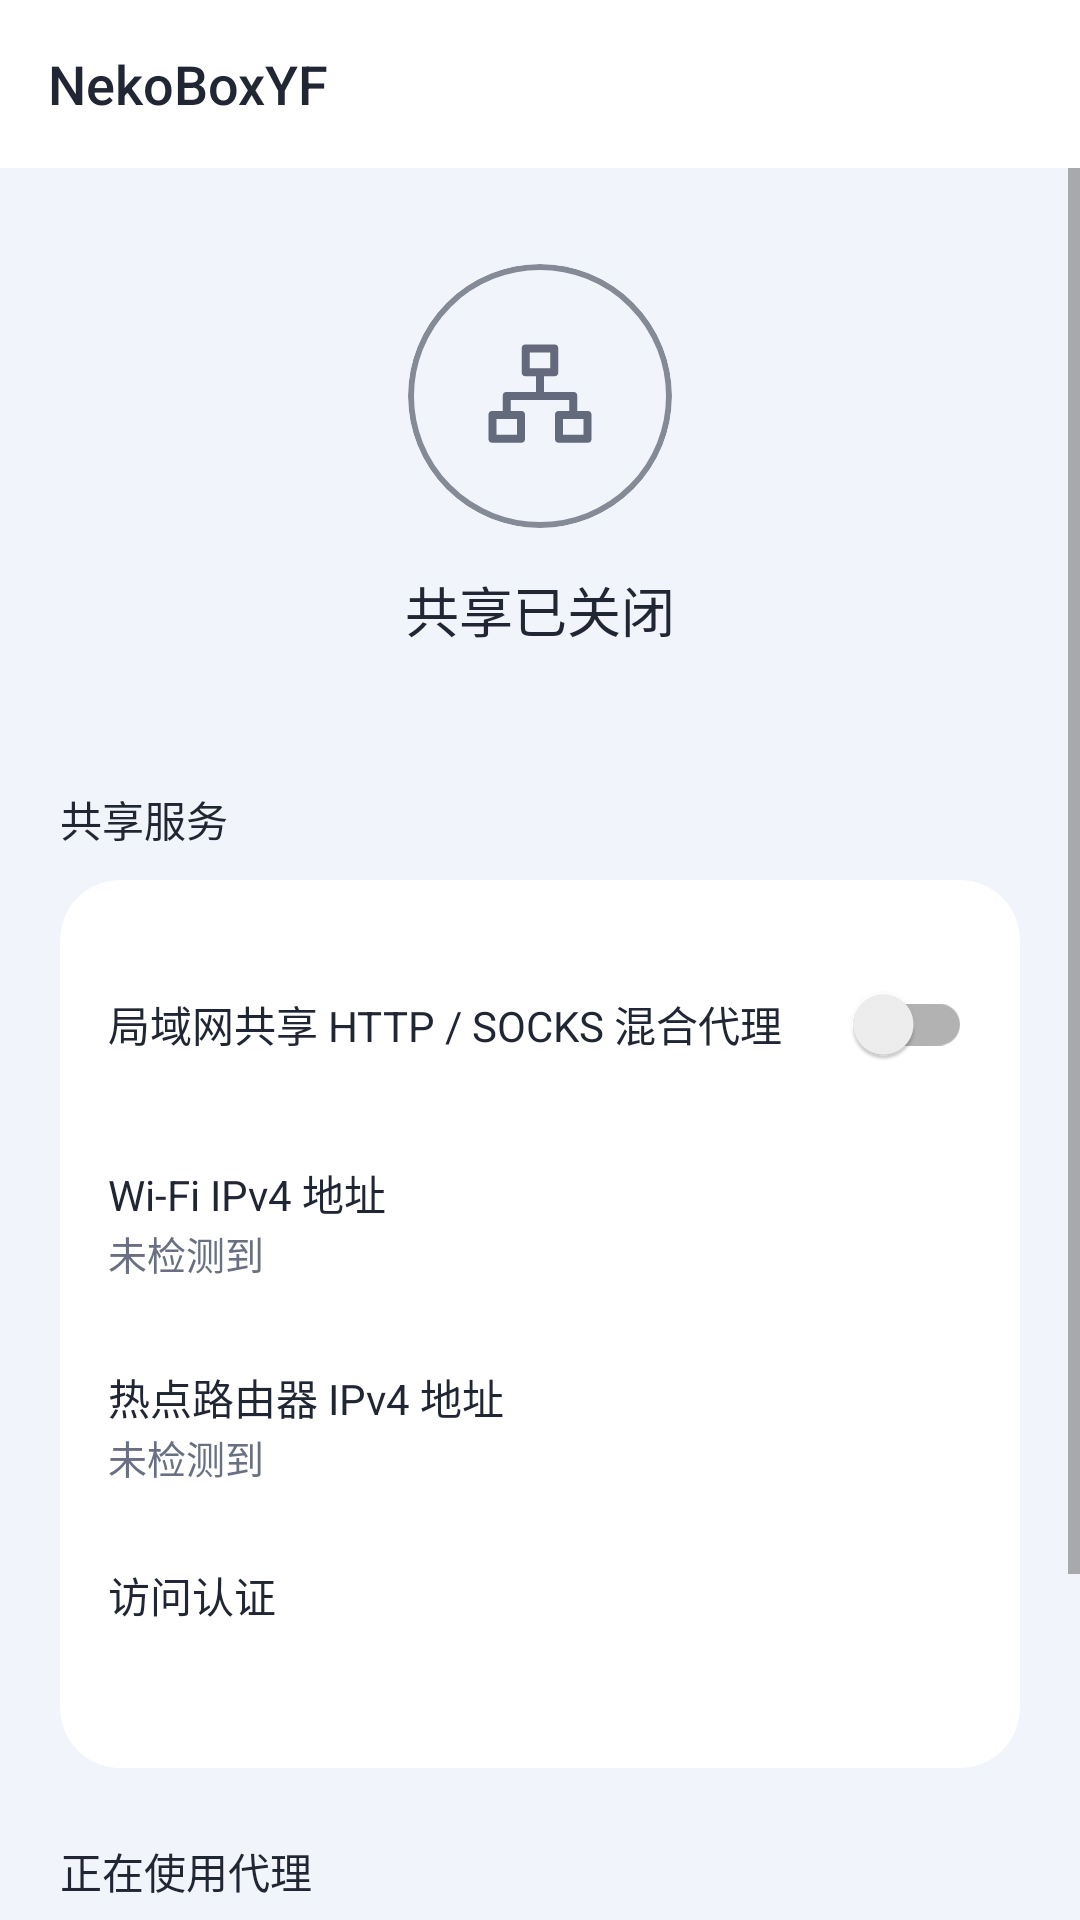

Screen size 1080 x 1920. Icon name, then its box in pixels as (x1, y1, x2, y2):
共享状态: (488, 344, 592, 443)
